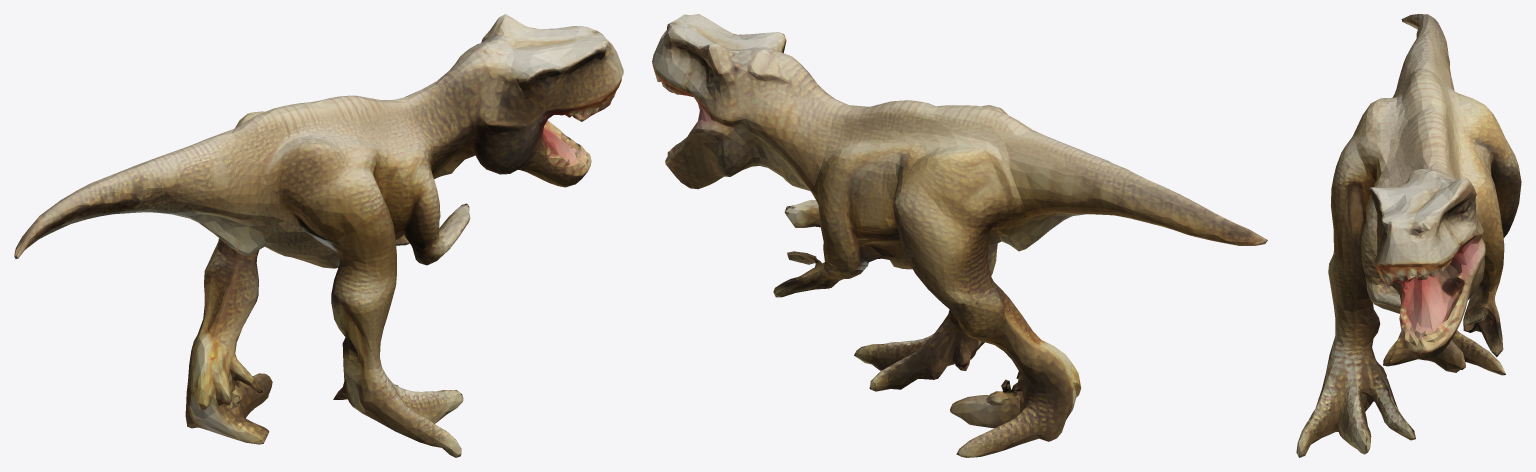
The picture shows the model from 3 angles, left to right: view 1: azimuth 30°, elevation 25°; view 2: azimuth 150°, elevation 25°; view 3: azimuth 270°, elevation 25°; orthographic projection. The views are drawn at different scales.
Visible parts, largest first — view 1: world; view 2: world; view 3: world.
Part boxes in pixels (x1,y1,x2,y2): world: [14, 14, 623, 457]; world: [652, 14, 1267, 457]; world: [1296, 14, 1521, 457].
Bounding box in the file's own units: 1 × 0.5509 × 0.3296.
1 material, 1 textured.
